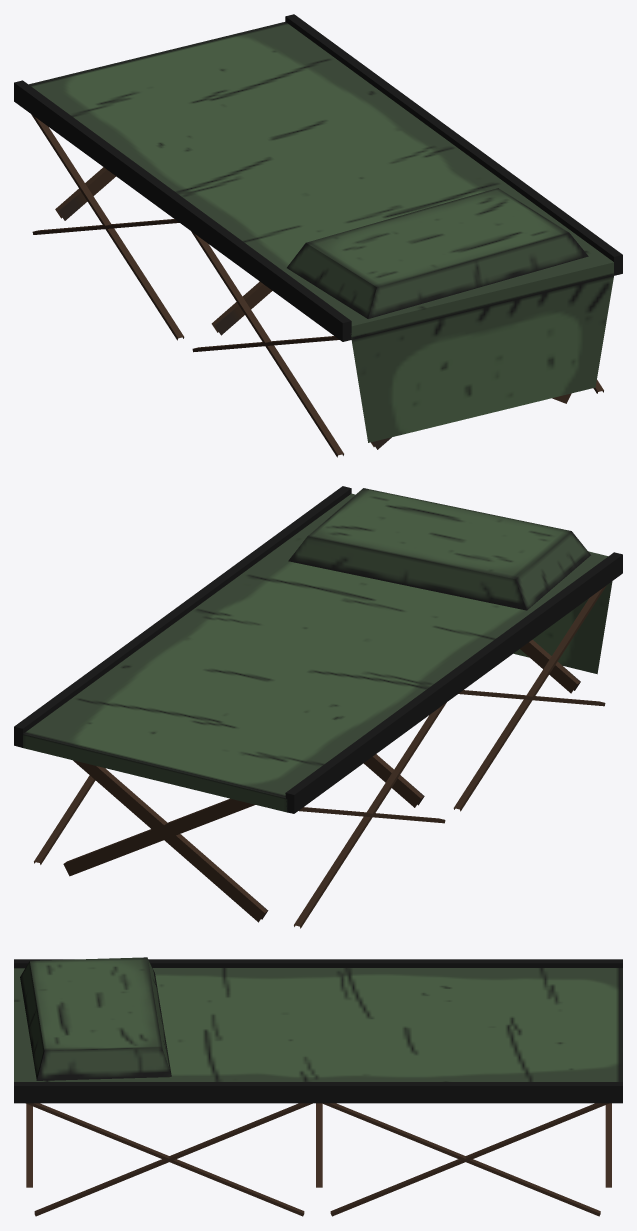
The model's file is Bed.fbx.
3 views of the same model, one above another, from view 1: azimuth 30°, elevation 25°; view 2: azimuth 150°, elevation 25°; view 3: azimuth 270°, elevation 25° (orthographic). The views are drawn at different scales.
Parts seen in each view (by area): view 1: Bed_Mesh, Pillow (Mesh); view 2: Bed_Mesh, Pillow (Mesh); view 3: Bed_Mesh, Pillow (Mesh).
Boxes of the visible parts, left/top/right/bottom form: Bed_Mesh: left=14, top=14, right=622, bottom=457; Pillow (Mesh): left=287, top=188, right=588, bottom=318; Bed_Mesh: left=14, top=486, right=622, bottom=928; Pillow (Mesh): left=288, top=488, right=590, bottom=610; Bed_Mesh: left=14, top=959, right=622, bottom=1216; Pillow (Mesh): left=20, top=957, right=171, bottom=1080.
Bounding box in the file's own units: 0.9845 × 0.5504 × 2.
Materials: 1 (1 with a texture image).
